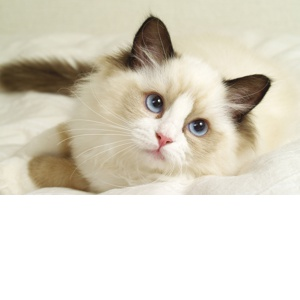cat: (4, 7, 292, 185)
